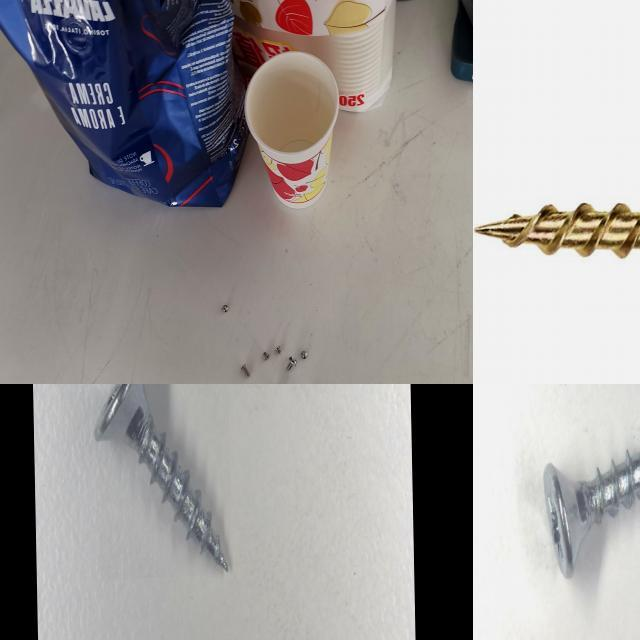Screw: (94, 384, 228, 570), (543, 449, 640, 577), (474, 204, 640, 258), (239, 363, 251, 379), (286, 355, 298, 371), (274, 344, 283, 357), (299, 350, 309, 360), (262, 351, 270, 362), (222, 304, 229, 314)
